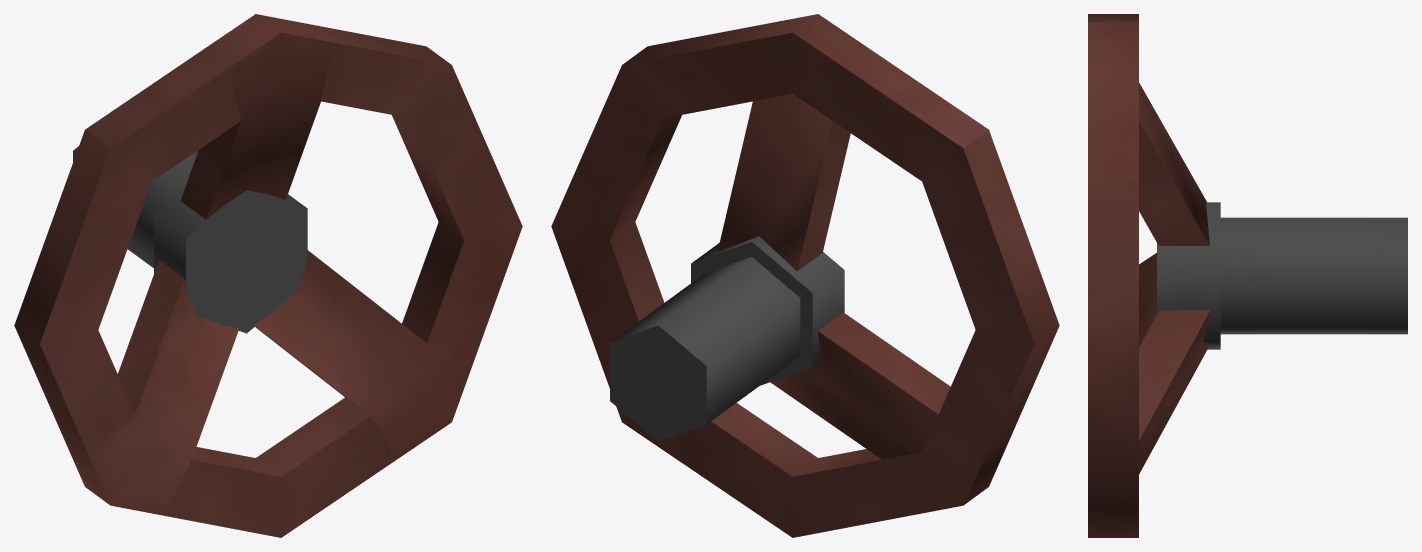
Rendered from Valve.obj.
3 views of the same model, side by side, from view 1: azimuth 30°, elevation 25°; view 2: azimuth 150°, elevation 25°; view 3: azimuth 270°, elevation 25° (orthographic).
Visible parts, largest first — view 1: Circle.003; view 2: Circle.003; view 3: Circle.003.
Part boxes in pixels (x1,y1,x2,y2): Circle.003: (14, 14, 522, 537); Circle.003: (551, 14, 1059, 537); Circle.003: (1088, 14, 1407, 537).
Bounding box in the file's own units: 0.4 × 0.4 × 0.2295.
Materials: 2 (2 with a texture image).
